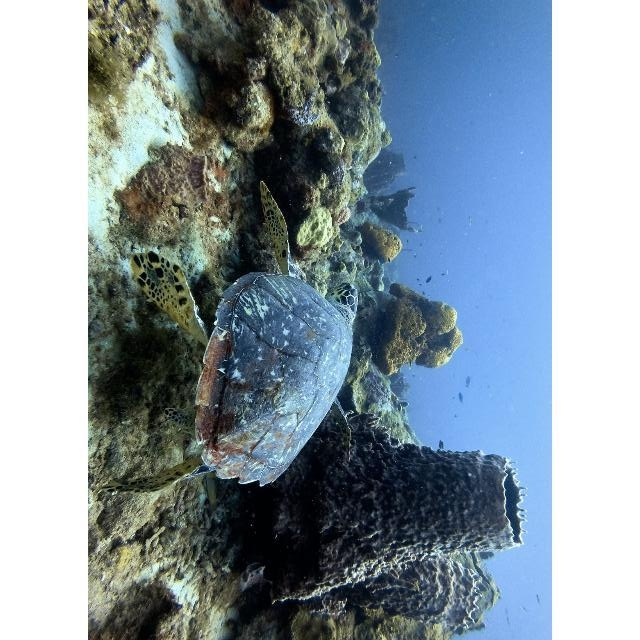turtle: (113, 180, 358, 495)
